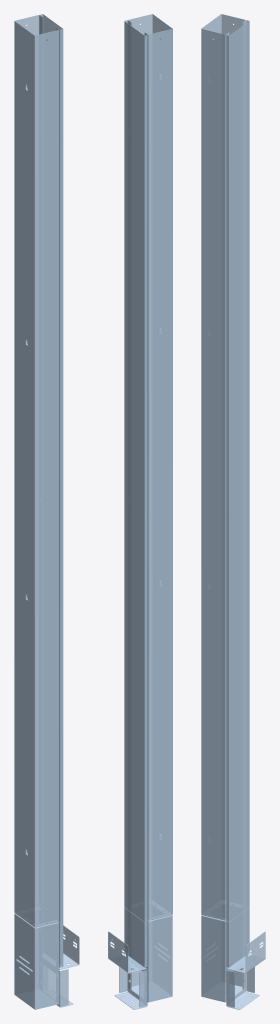
File: 2KSO334000.glb
3 views of the same model, side by side, from view 1: azimuth 30°, elevation 25°; view 2: azimuth 210°, elevation 25°; view 3: azimuth 330°, elevation 25° (orthographic).
Parts seen in each view (by area): view 1: 8, 9, 7, 10, 6; view 2: 8, 9, 7, 10, 6; view 3: 8, 9, 7, 10, 6.
Boxes of the visible parts, x1,y1,x2,y2 form: 8: (14,15,59,927); 9: (40,14,63,921); 7: (14,913,59,1009); 10: (56,925,79,1007); 6: (59,921,63,967); 8: (128,14,172,920); 9: (124,20,147,921); 7: (129,913,172,1002); 10: (108,931,147,1009); 6: (124,907,147,967); 8: (201,14,245,920); 9: (226,20,249,921); 7: (201,913,244,1002); 10: (226,931,265,1009); 6: (226,907,249,967).
Size of the model in its own units: 0.127 by 2.63 by 0.1001.
